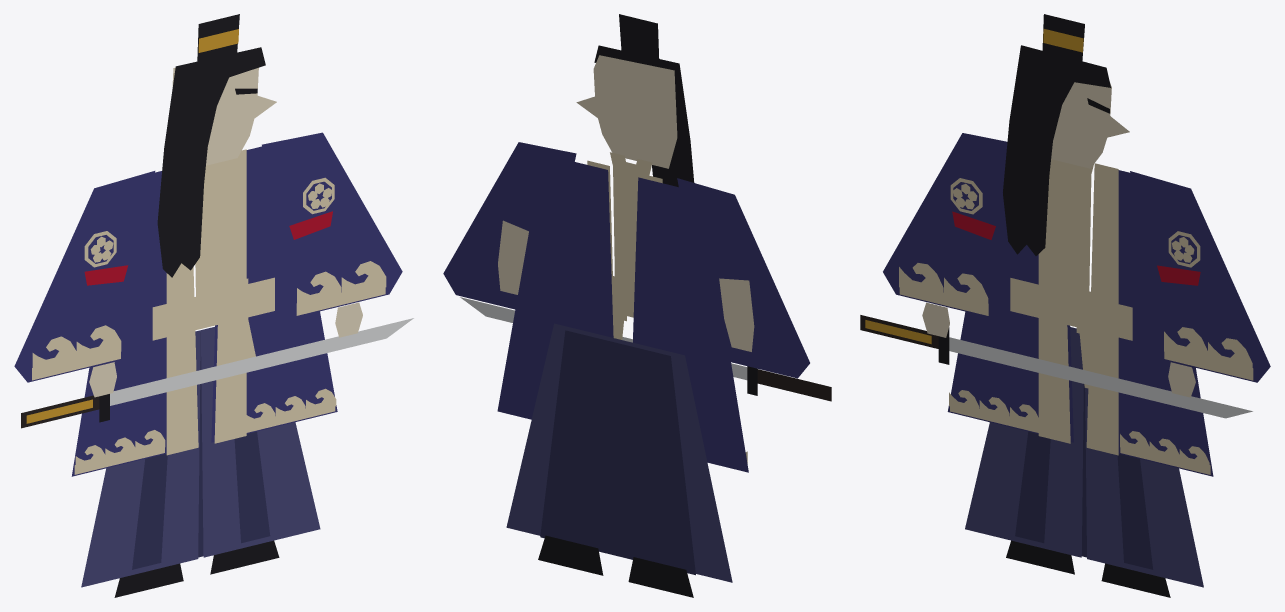
The model's file is samurai-v3.glb.
3 views of the same model, side by side, from view 1: azimuth 30°, elevation 25°; view 2: azimuth 150°, elevation 25°; view 3: azimuth 330°, elevation 25° (orthographic). The views are drawn at different scales.
Parts seen in each view (by area): view 1: kami_sleeve_R, hakama_L, robe_L, hakama_R, kami_sleeve_L, robe_R, sumi_hair, kami_hair, sword_paper, obi, sumi_sleeve_L, lapel_L (+10 smaller); view 2: hakama_back, robe_R, robe_L, kami_sleeve_R, face, kami_sleeve_L, hakama_R, hakama_L, kimono, kami_hair, sword_paper, sumi_forearm_R (+6 smaller); view 3: kami_sleeve_L, kami_sleeve_R, hakama_R, robe_L, hakama_L, robe_R, sumi_hair, kami_hair, lapel_L, sword_paper, obi, lapel_R (+10 smaller).
Boxes of the visible parts, x1,y1,x2,y2 form: kami_sleeve_R: (14, 171, 154, 382); hakama_L: (201, 327, 320, 557); robe_L: (211, 146, 337, 442); hakama_R: (81, 330, 200, 587); kami_sleeve_L: (262, 132, 402, 317); robe_R: (71, 171, 166, 476); sumi_hair: (157, 47, 265, 277); kami_hair: (172, 14, 265, 174); sword_paper: (21, 318, 413, 428); obi: (152, 277, 274, 380); sumi_sleeve_L: (262, 136, 336, 244); lapel_L: (214, 149, 246, 443); hakama_back: (540, 330, 695, 575); robe_R: (633, 177, 748, 472); robe_L: (497, 154, 613, 419); kami_sleeve_R: (677, 178, 809, 378); face: (576, 55, 677, 168); kami_sleeve_L: (443, 142, 576, 309); hakama_R: (619, 339, 732, 582); hakama_L: (506, 323, 619, 535); kimono: (613, 159, 647, 312); kami_hair: (594, 14, 682, 165); sword_paper: (460, 297, 831, 401); sumi_forearm_R: (719, 278, 754, 351); kami_sleeve_L: (1130, 171, 1270, 382); kami_sleeve_R: (883, 133, 1007, 317); hakama_R: (965, 327, 1083, 557); robe_L: (1118, 170, 1213, 476); hakama_L: (1085, 388, 1203, 587); robe_R: (947, 229, 1073, 442); sumi_hair: (1003, 45, 1109, 255); kami_hair: (1018, 14, 1110, 160); lapel_L: (1086, 163, 1118, 455); sword_paper: (860, 315, 1252, 418); obi: (1010, 278, 1132, 390); lapel_R: (1038, 159, 1070, 443).
Bounding box in the file's own units: 2.98 × 4.14 × 0.38.
